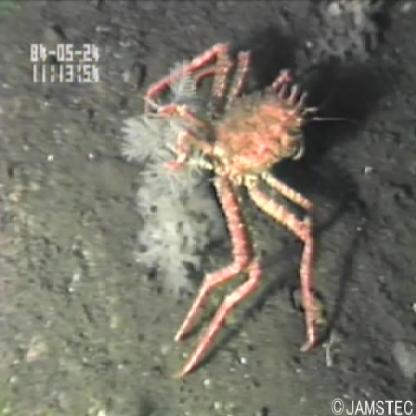Bio: (117, 36, 328, 382)
